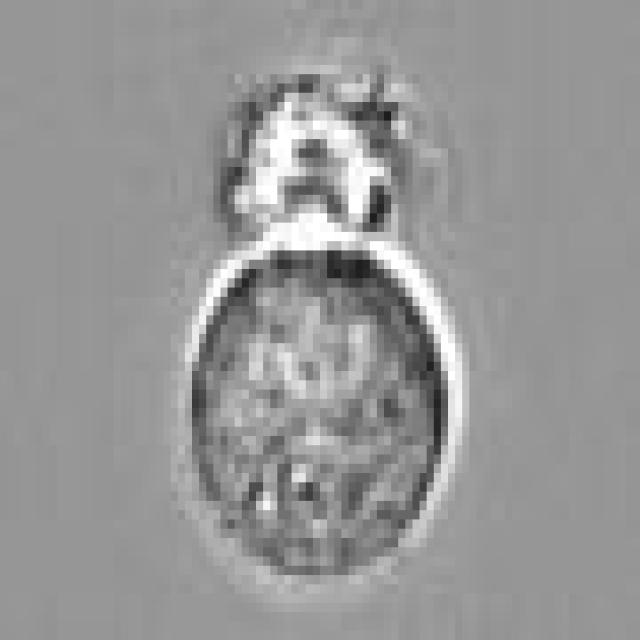Cancer Cell: (185, 232, 455, 584)
WBC: (228, 74, 406, 269)
